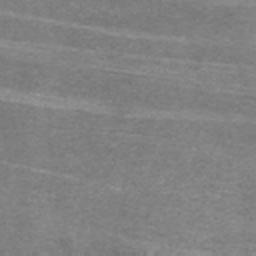Finishing roll printing: (0, 39, 256, 80), (0, 88, 256, 124), (0, 11, 187, 43), (0, 160, 81, 182)
